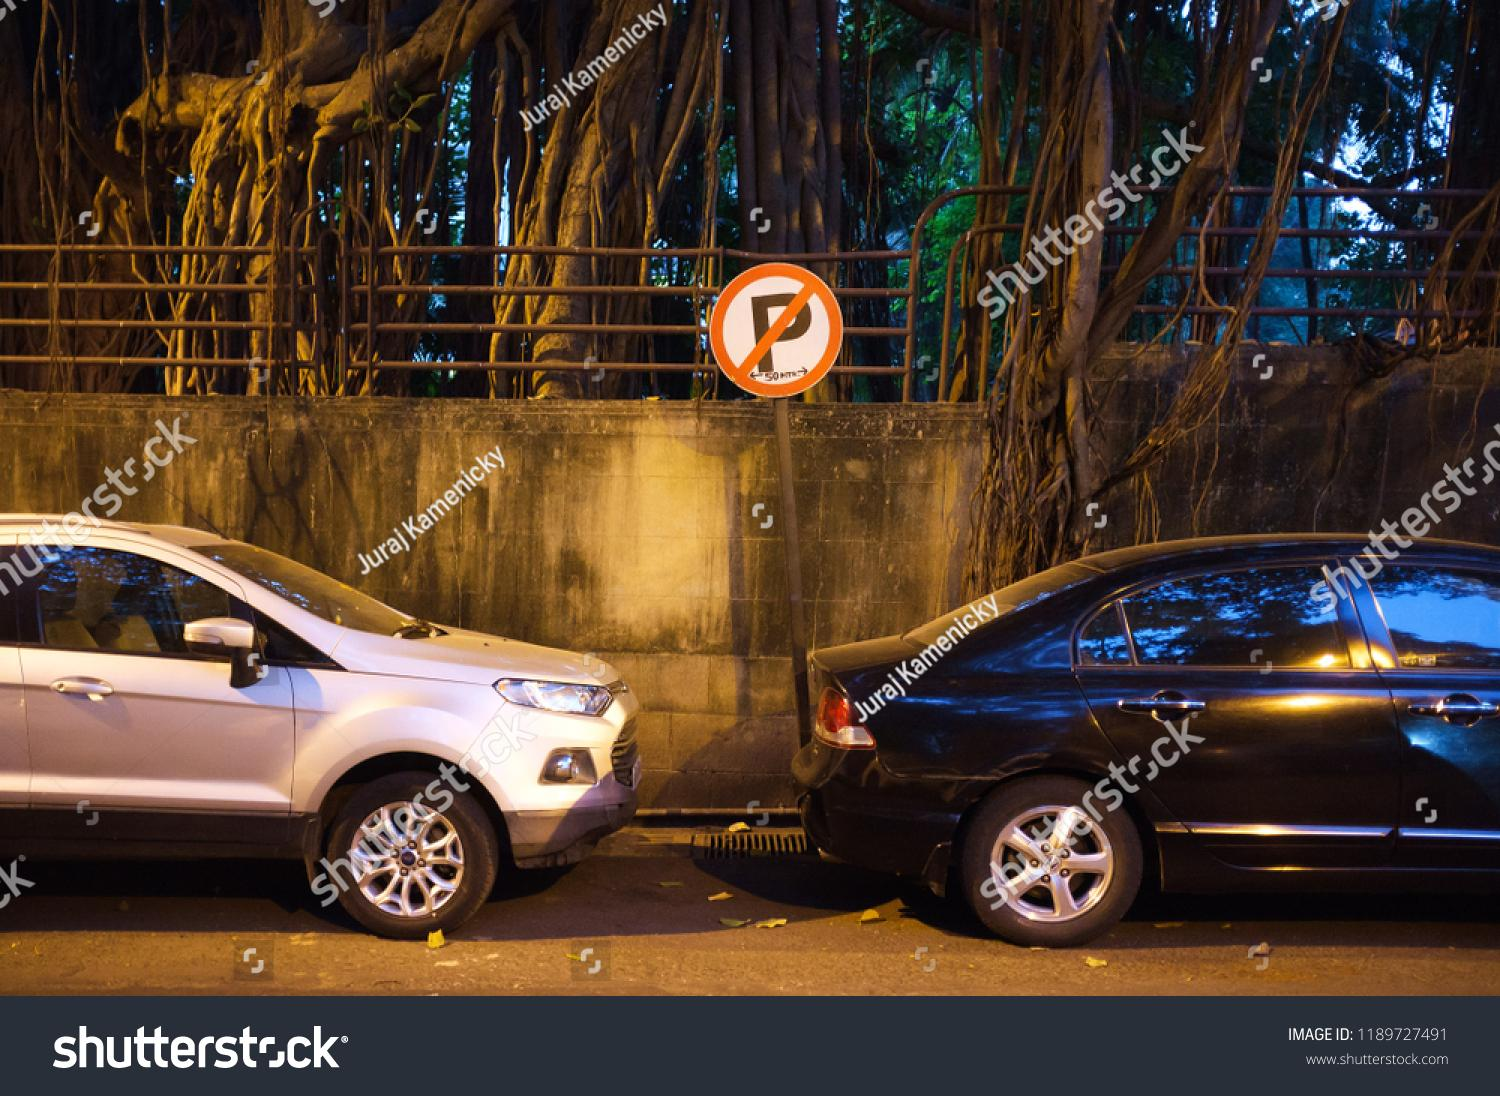No Parking: (713, 259, 855, 403)
